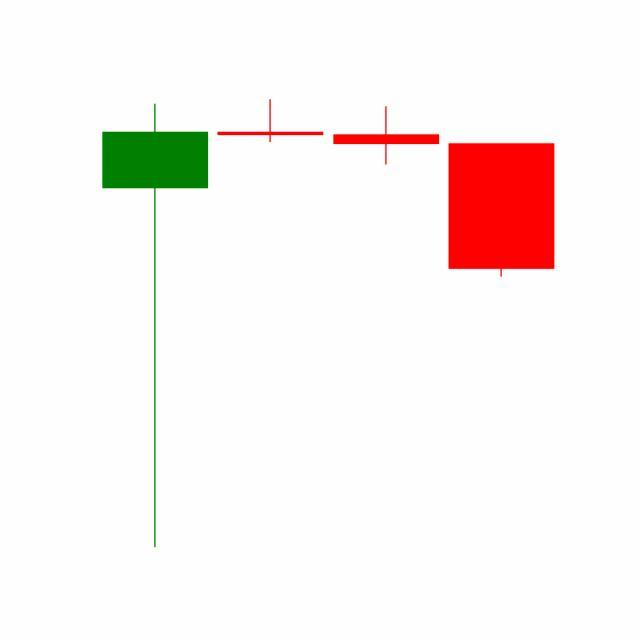Marubozu: (444, 143, 560, 280)
